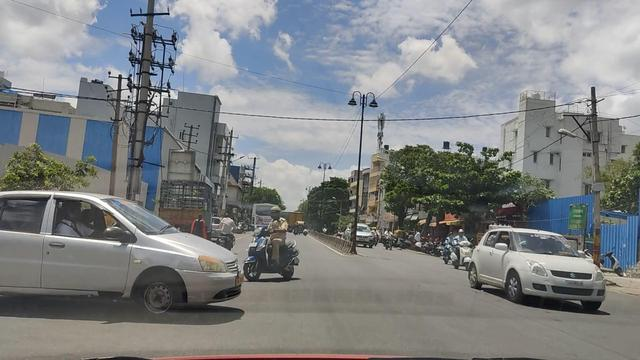LMV: (3, 191, 222, 309), (244, 206, 306, 292)
